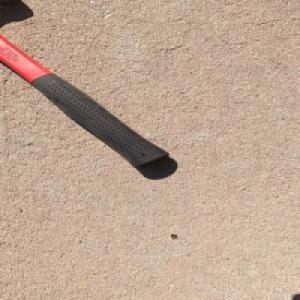Hammer: (0, 0, 173, 170)
